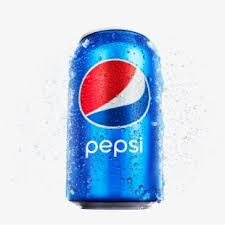pepsi: (70, 29, 161, 207)
